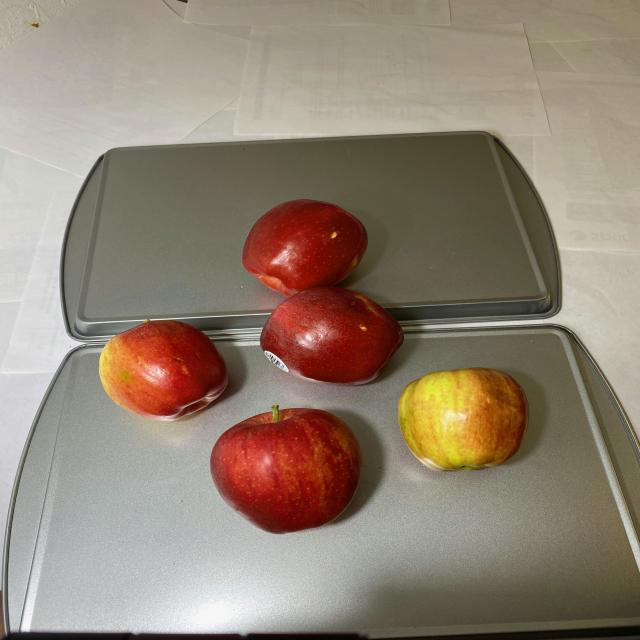apple: (93, 202, 529, 535)
